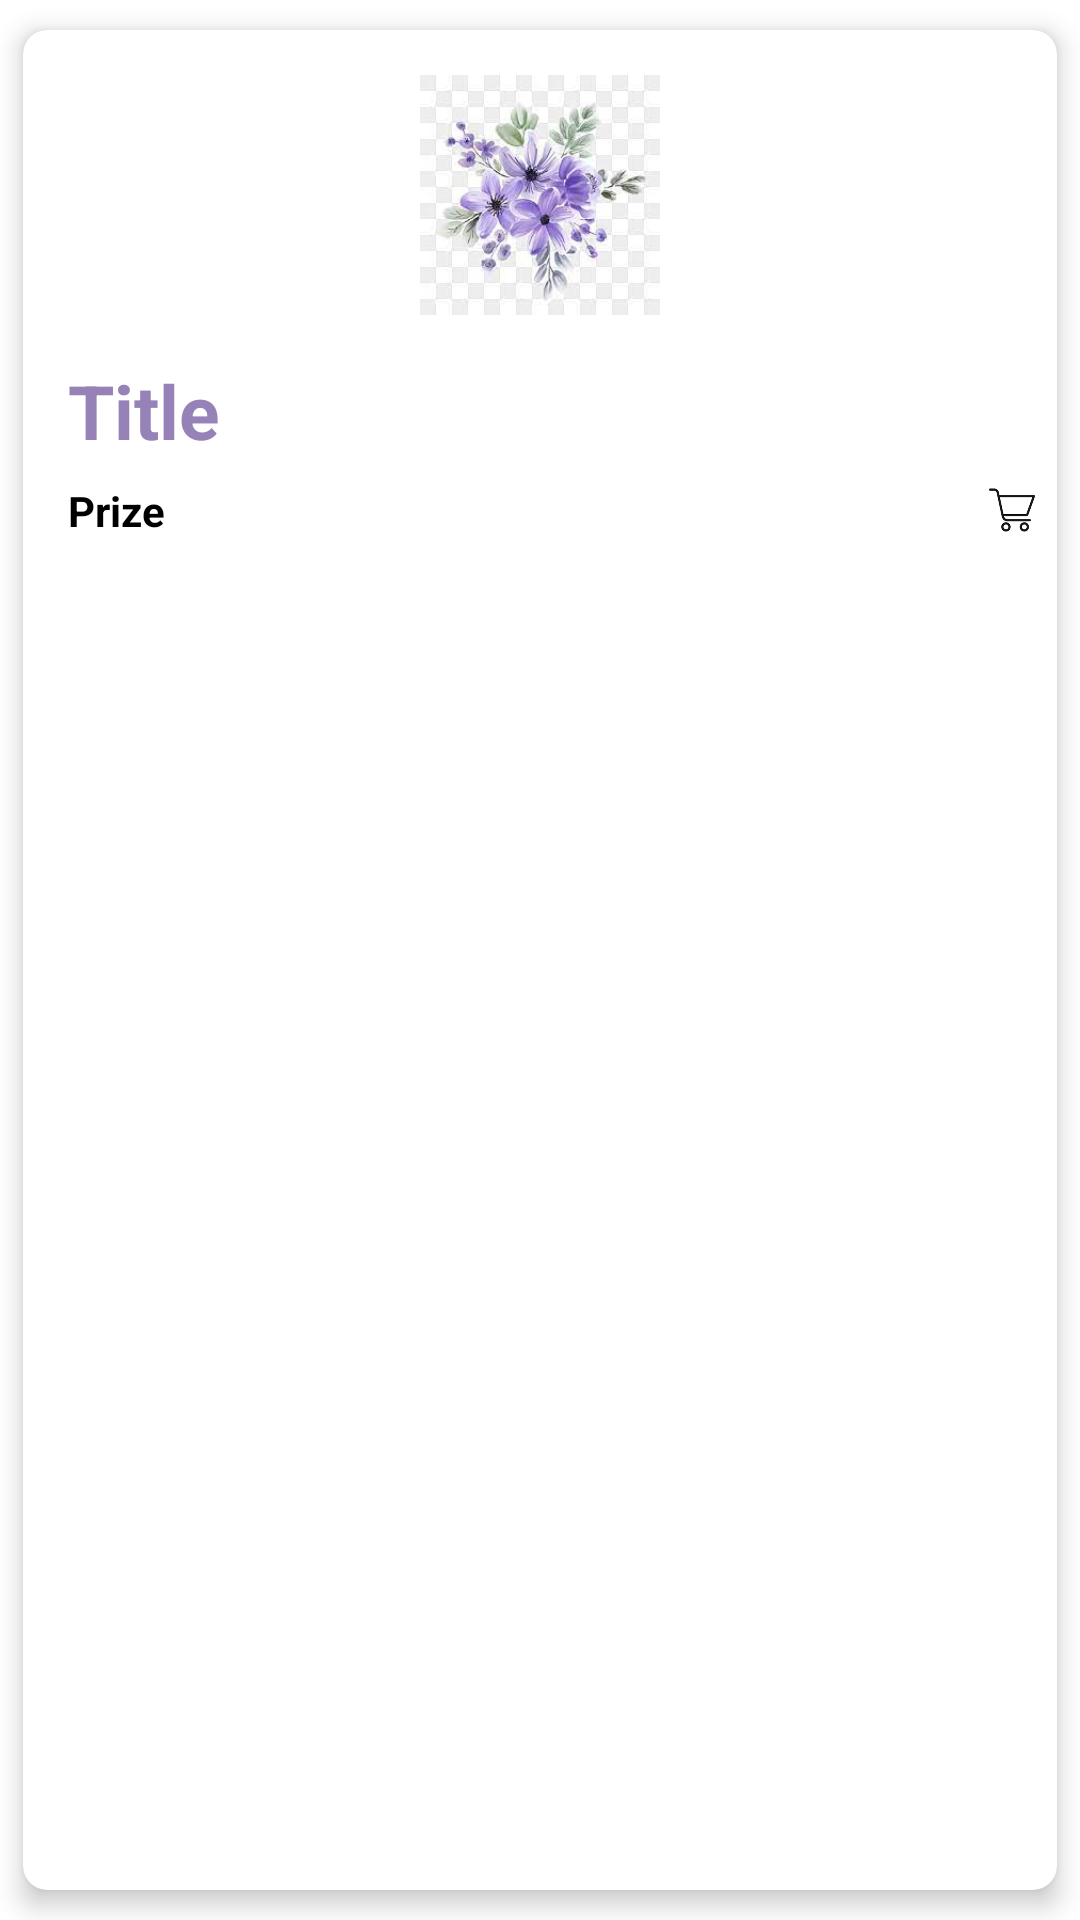

Named icons in this screenshot (1080px x 1920px) and their bounding boxes, (x1, y1, x2, y2):
cart: (989, 488, 1035, 532)
flower: (434, 75, 650, 315)
